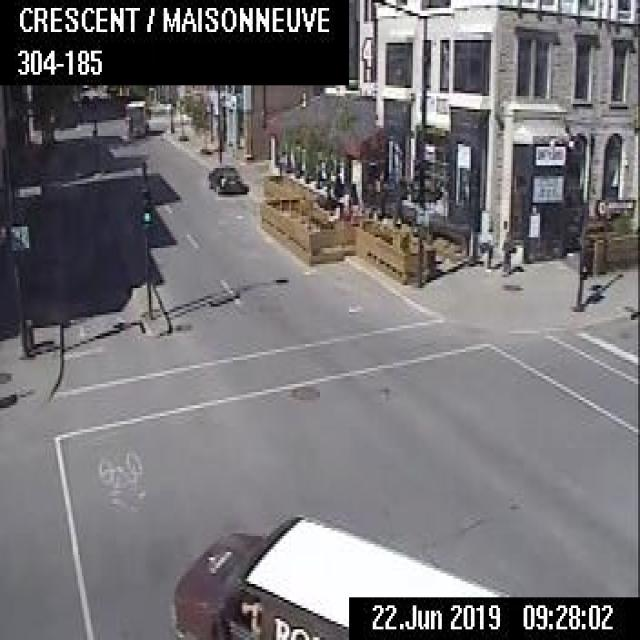pedestrian: (500, 227, 514, 275), (484, 224, 494, 271), (332, 173, 342, 208), (347, 180, 358, 210)
vehicle: (171, 512, 498, 637), (207, 163, 244, 192), (124, 96, 146, 136)
